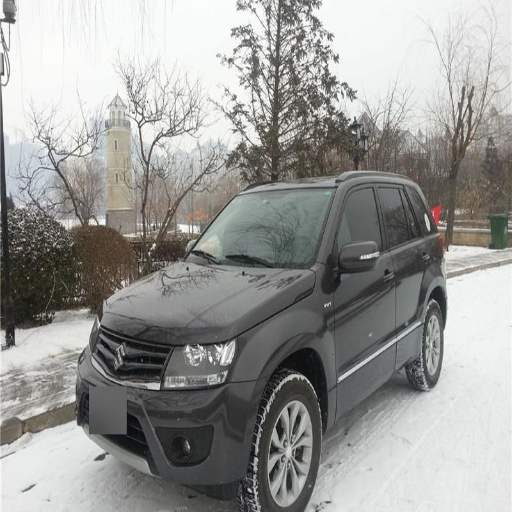front_bumper: (80, 316, 260, 483)
front_glass: (188, 189, 334, 267)
front_left_door: (333, 179, 395, 383)
